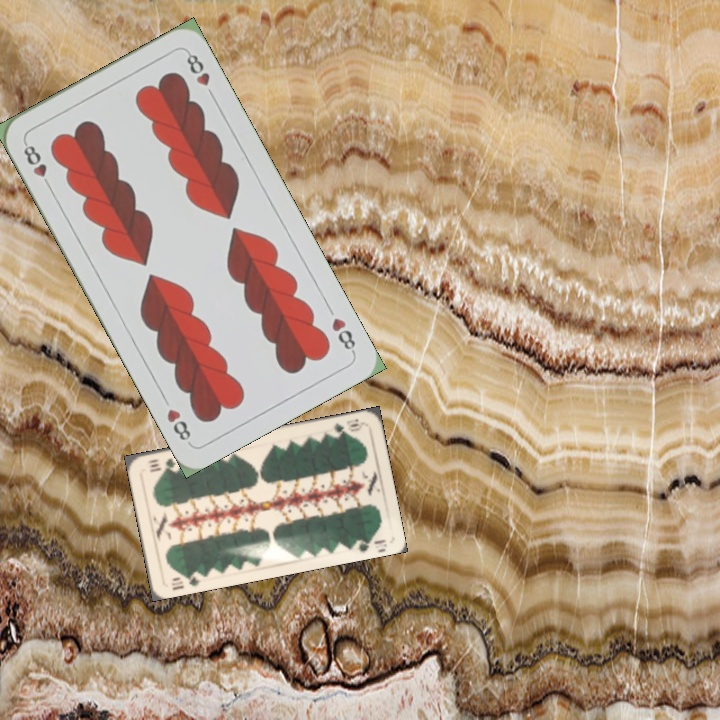G10: (167, 568, 204, 593), (330, 418, 366, 437)
H8: (19, 138, 55, 192), (327, 313, 358, 356)
